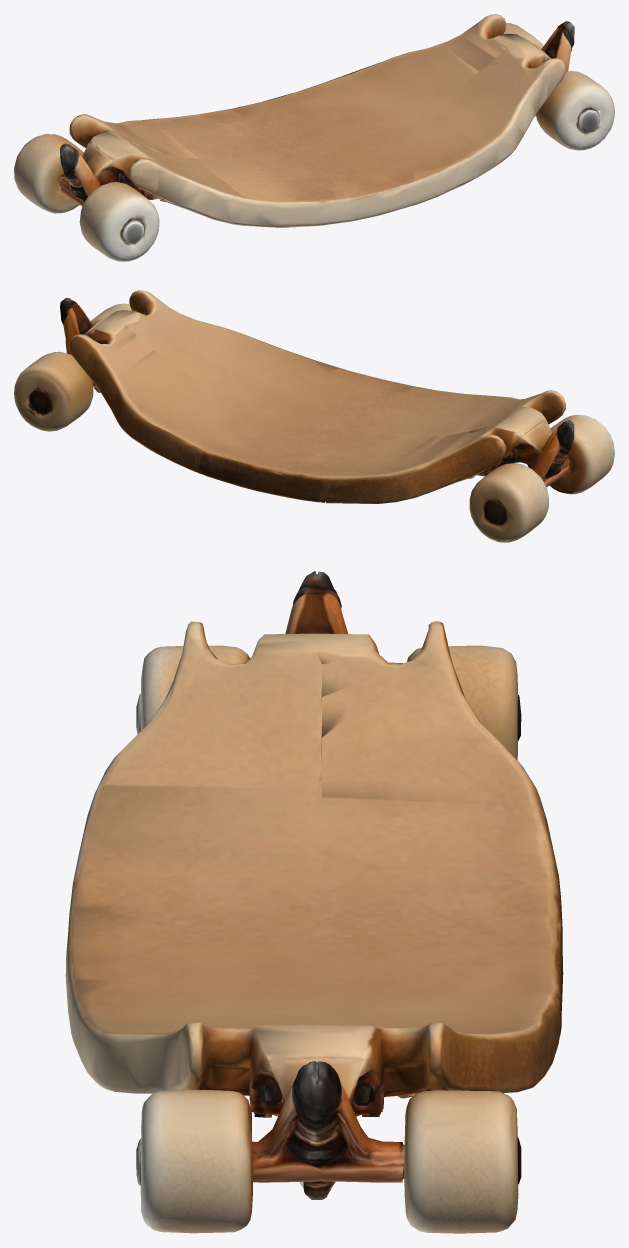
File: CCG_Deck_IvoryMandalaFlow_web.glb
3 renders of one model, top to bottom at view 1: azimuth 30°, elevation 25°; view 2: azimuth 150°, elevation 25°; view 3: azimuth 270°, elevation 25°, orthographic. The views are drawn at different scales.
Visible parts, largest first — view 1: SM_Deck_IvoryMandalaFlow; view 2: SM_Deck_IvoryMandalaFlow; view 3: SM_Deck_IvoryMandalaFlow.
Boxes of the visible parts, box(x1,y1,x2,y2) form: SM_Deck_IvoryMandalaFlow: box(14, 14, 614, 261); SM_Deck_IvoryMandalaFlow: box(14, 290, 614, 542); SM_Deck_IvoryMandalaFlow: box(65, 571, 563, 1233).
Bounding box in the file's own units: 0.8197 × 0.1492 × 0.342.
Materials: 1 (1 with a texture image).
